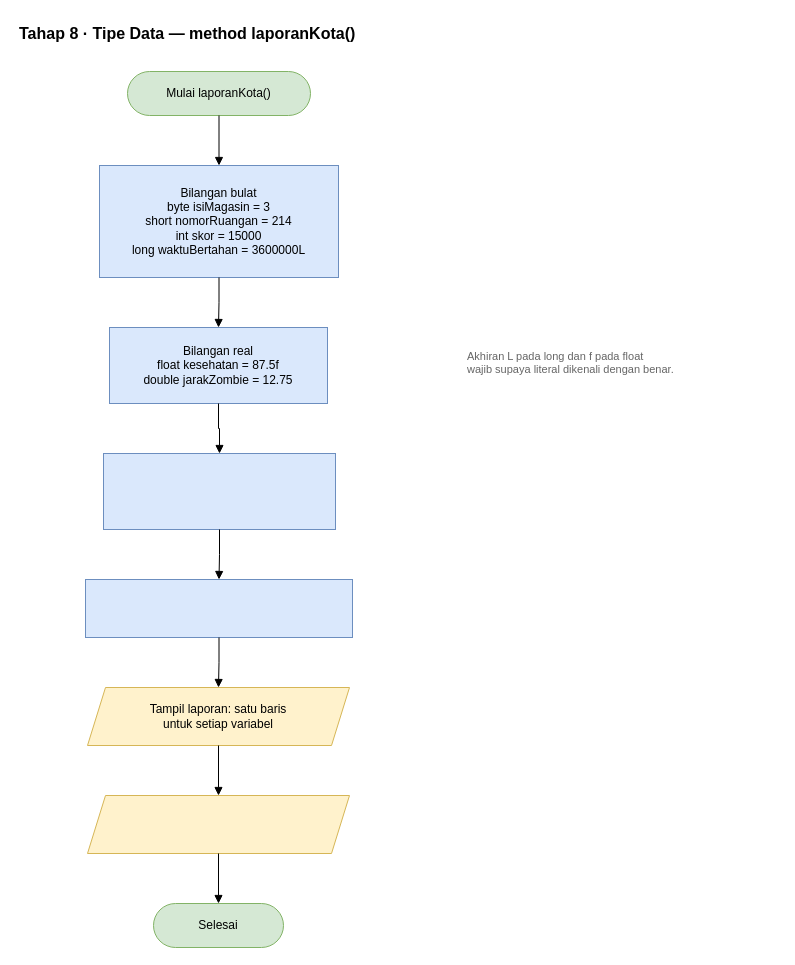
This 795x965 diagram has some shape labels left out. The shapes that lost their labels are listed below. From the top down, each one's centre as x and y in pixels, then its label:
[219,491]: Karakter dan logika char levelBahaya = 'B' boolean pintuTerkunci = true
[218,608]: Tipe referensi String lokasi = "Gudang Lantai 2"
[218,824]: Tampil panjang nama lokasi lokasi.length() → 15
